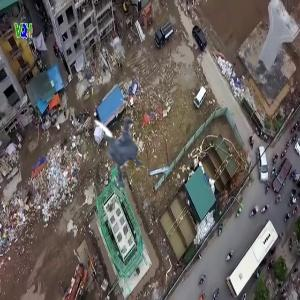drone: (72, 99, 168, 195)
